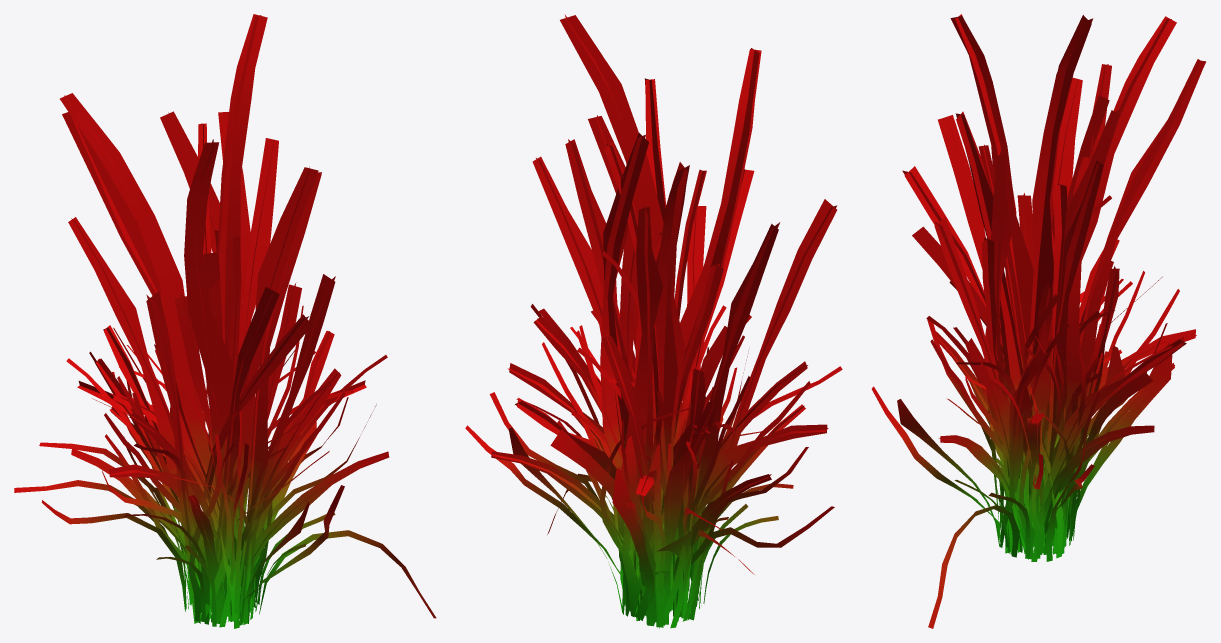
File: Var6_LOD1.fbx
3 views of the same model, side by side, from view 1: azimuth 30°, elevation 25°; view 2: azimuth 150°, elevation 25°; view 3: azimuth 270°, elevation 25° (orthographic). The views are drawn at different scales.
Parts seen in each view (by area): view 1: _1133_Var6_LOD1; view 2: _1133_Var6_LOD1; view 3: _1133_Var6_LOD1.
Part boxes in pixels (left/top/right/bottom): _1133_Var6_LOD1: left=14, top=14, right=436, bottom=628; _1133_Var6_LOD1: left=465, top=15, right=842, bottom=628; _1133_Var6_LOD1: left=871, top=14, right=1206, bottom=628.
Size of the model in its own units: 58.48 by 96.14 by 51.7.
